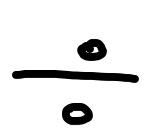div: (13, 39, 139, 126)
